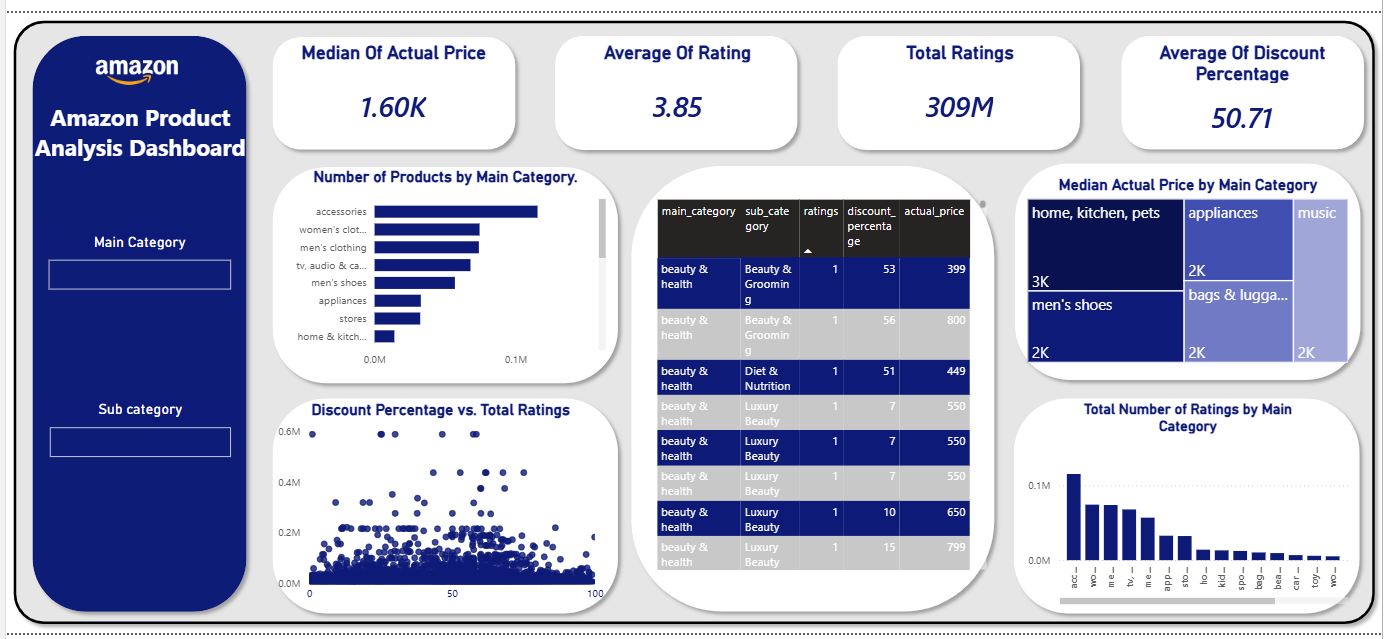

The dashboard page shown, as its layout file describes it:
{"tool":"powerbi","page":{"name":"Page 1","canvas":[1600,720],"ordinal":0},"visuals":[{"type":"shape","box":[0,0,1600.6,719.5],"z":0},{"type":"shape","box":[300.6,19.2,300.3,148.9],"z":1000},{"type":"shape","box":[629.7,17.8,300,150.8],"z":2000},{"type":"shape","box":[958.4,17.8,300,150.8],"z":3000},{"type":"shape","box":[1287.1,18,300.3,150.1],"z":4000},{"type":"shape","box":[21.8,18,266.9,687.8],"z":5000},{"type":"shape","box":[1162.7,438.9,420,268.2],"z":6000},{"type":"shape","box":[717.4,168.1,440.2,536.4],"z":7000},{"type":"shape","box":[1164.3,166.1,419.7,269.9],"z":8000},{"type":"shape","box":[300.3,438.9,419.6,268.2],"z":9000},{"type":"shape","box":[300.3,169.4,419.6,269.5],"z":10000},{"type":"cardVisual","title":"Median Of Actual Price","fields":{"Data":["mus.avg acprice"]},"box":[310.6,33.4,279.8,120.6],"z":11000},{"type":"cardVisual","title":"Average Of Rating","fields":{"Data":["mus.Avg_rating"]},"box":[640.4,33.4,279.8,120.6],"z":12000},{"type":"cardVisual","title":"Total Ratings","fields":{"Data":["amazon.Total Ratings"]},"box":[968.9,33.4,279.8,120.6],"z":13000},{"type":"cardVisual","title":"Average Of Discount Percentage ","fields":{"Data":["mus.avg disperc"]},"box":[1297.4,33.4,279.8,120.6],"z":14000},{"type":"slicer","title":"Main Category","fields":{"Values":["amazon.main_category"]},"box":[38.8,255.9,232.6,193.8],"z":15000},{"type":"slicer","title":"Sub category","fields":{"Values":["amazon.sub_category"]},"box":[40.3,451.3,231.1,218.6],"z":16000},{"type":"image","box":[35.7,18.6,235.7,108.5],"z":17000},{"type":"clusteredBarChart","title":"Number of Products by Main Category.","fields":{"Y":["CountNonNull(amazon.actual_price)"],"Category":["amazon.main_category"]},"box":[319.4,180.5,382.3,241],"z":18000},{"type":"treemap","title":"Median Actual Price by Main Category","fields":{"Group":["amazon.main_category"],"Values":["mus.median acprice"]},"box":[1183.5,188.4,382.6,222.5],"z":19000},{"type":"tableEx","fields":{"Values":["amazon.main_category","amazon.sub_category","amazon.ratings","amazon.discount_percentage","amazon.actual_price"]},"box":[751.5,212.2,393.9,440.4],"z":20000},{"type":"scatterChart","title":"Discount Percentage vs. Total Ratings","fields":{"X":["amazon.discount_percentage"],"Y":["amazon.no_of_ratings"]},"box":[311.2,450.1,389,242.6],"z":21000},{"type":"clusteredColumnChart","title":"Total Number of Ratings by Main Category","fields":{"Category":["amazon.main_category"],"Y":["CountNonNull(amazon.no_of_ratings)"]},"box":[1183.5,451.1,382.5,241.9],"z":22000},{"type":"textbox","box":[20.2,97.7,271.4,114.8],"z":23000}]}

Visuals, with their boxes in screenshot pixels (x1, y1, x2, y2), scaled from the page's 1600x720 canvas onto the 1394x639 screenshot:
shape: l=0, t=0, r=1393, b=638
shape: l=262, t=17, r=524, b=149
shape: l=549, t=16, r=810, b=150
shape: l=835, t=16, r=1096, b=150
shape: l=1121, t=16, r=1383, b=149
shape: l=19, t=16, r=252, b=626
shape: l=1013, t=390, r=1379, b=628
shape: l=625, t=149, r=1009, b=625
shape: l=1014, t=147, r=1380, b=387
shape: l=262, t=390, r=627, b=628
shape: l=262, t=150, r=627, b=390
"Median Of Actual Price" cardVisual: l=271, t=30, r=514, b=137
"Average Of Rating" cardVisual: l=558, t=30, r=802, b=137
"Total Ratings" cardVisual: l=844, t=30, r=1088, b=137
"Average Of Discount Percentage " cardVisual: l=1130, t=30, r=1374, b=137
"Main Category" slicer: l=34, t=227, r=236, b=399
"Sub category" slicer: l=35, t=401, r=236, b=595
image: l=31, t=17, r=236, b=113
"Number of Products by Main Category." clusteredBarChart: l=278, t=160, r=611, b=374
"Median Actual Price by Main Category" treemap: l=1031, t=167, r=1364, b=365
tableEx - amazon.main_category x amazon.sub_category: l=655, t=188, r=998, b=579
"Discount Percentage vs. Total Ratings" scatterChart: l=271, t=399, r=610, b=615
"Total Number of Ratings by Main Category" clusteredColumnChart: l=1031, t=400, r=1364, b=615
textbox: l=18, t=87, r=254, b=189
